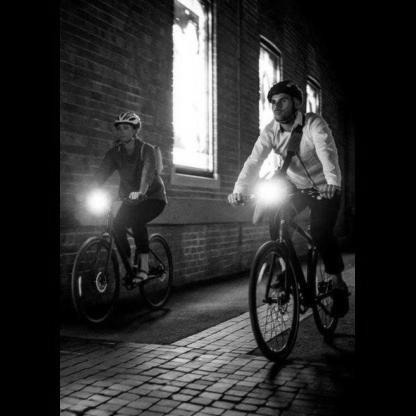Bicycle: (219, 177, 353, 365), (60, 184, 194, 337)
